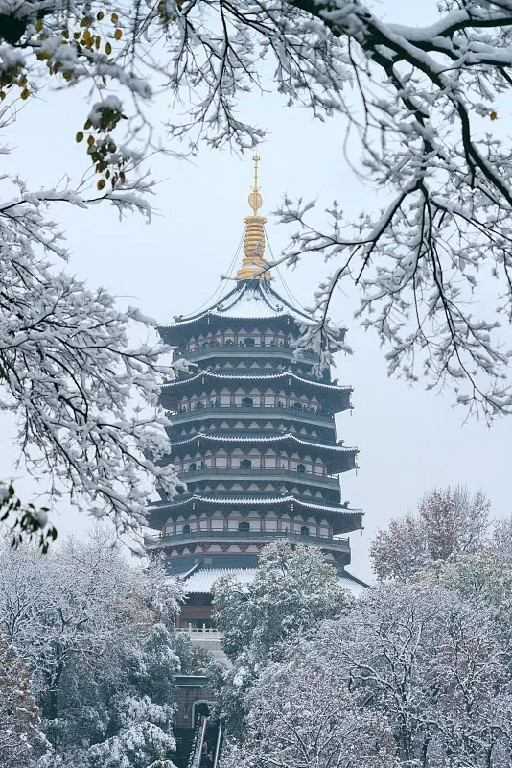Leifeng: (133, 153, 379, 637)
